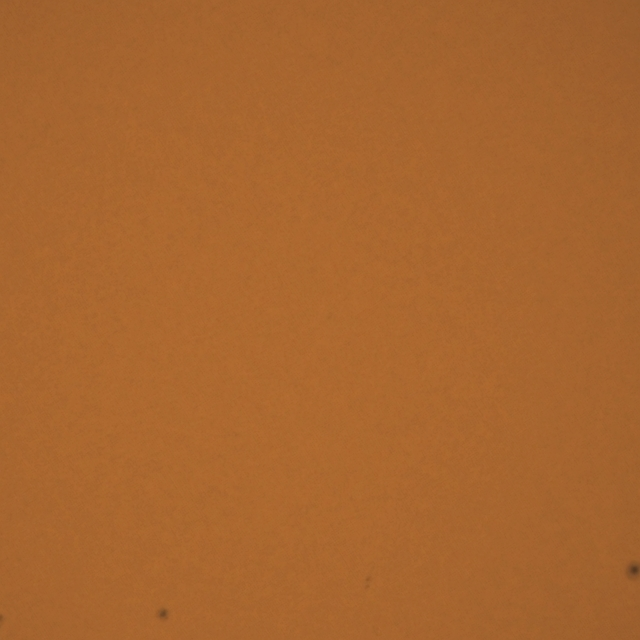sunspot: (625, 561, 640, 581), (155, 606, 171, 622), (363, 576, 373, 590)
